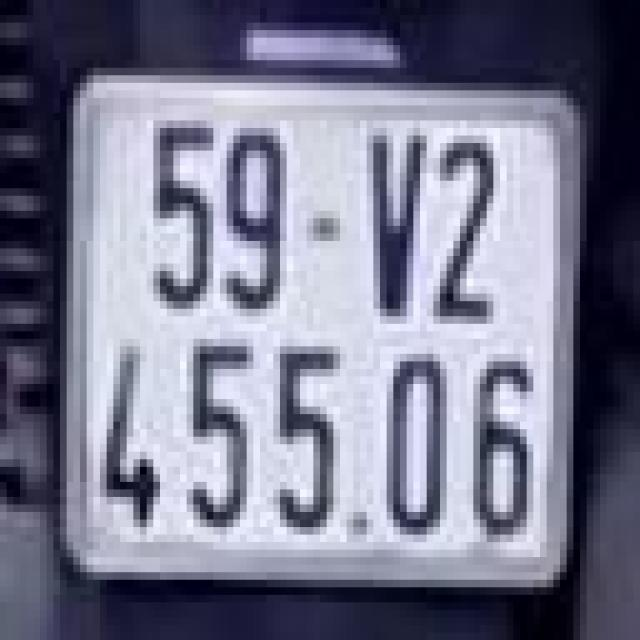0: (377, 346, 450, 542)
2: (430, 124, 503, 335)
4: (90, 320, 170, 546)
5: (270, 331, 350, 542), (180, 335, 260, 538), (147, 109, 220, 320)
6: (467, 350, 540, 546)
9: (227, 116, 300, 328)
V: (357, 113, 423, 331)
